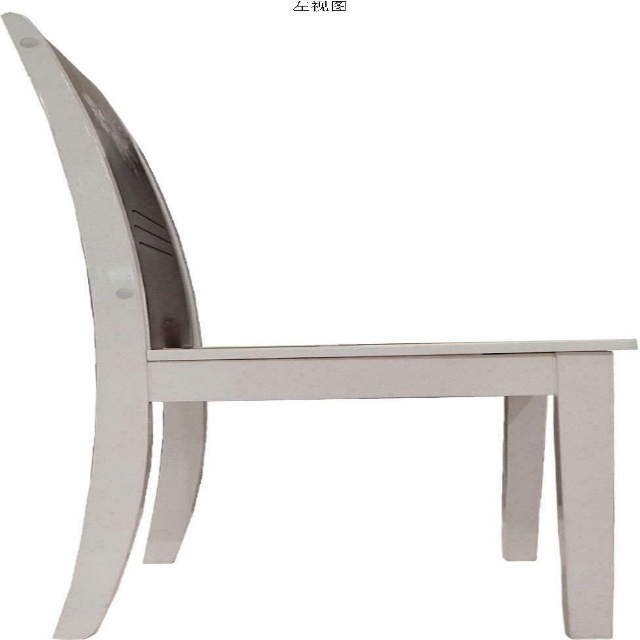obstacle: (4, 0, 637, 345), (92, 398, 567, 640), (3, 34, 93, 640), (614, 351, 637, 640)
